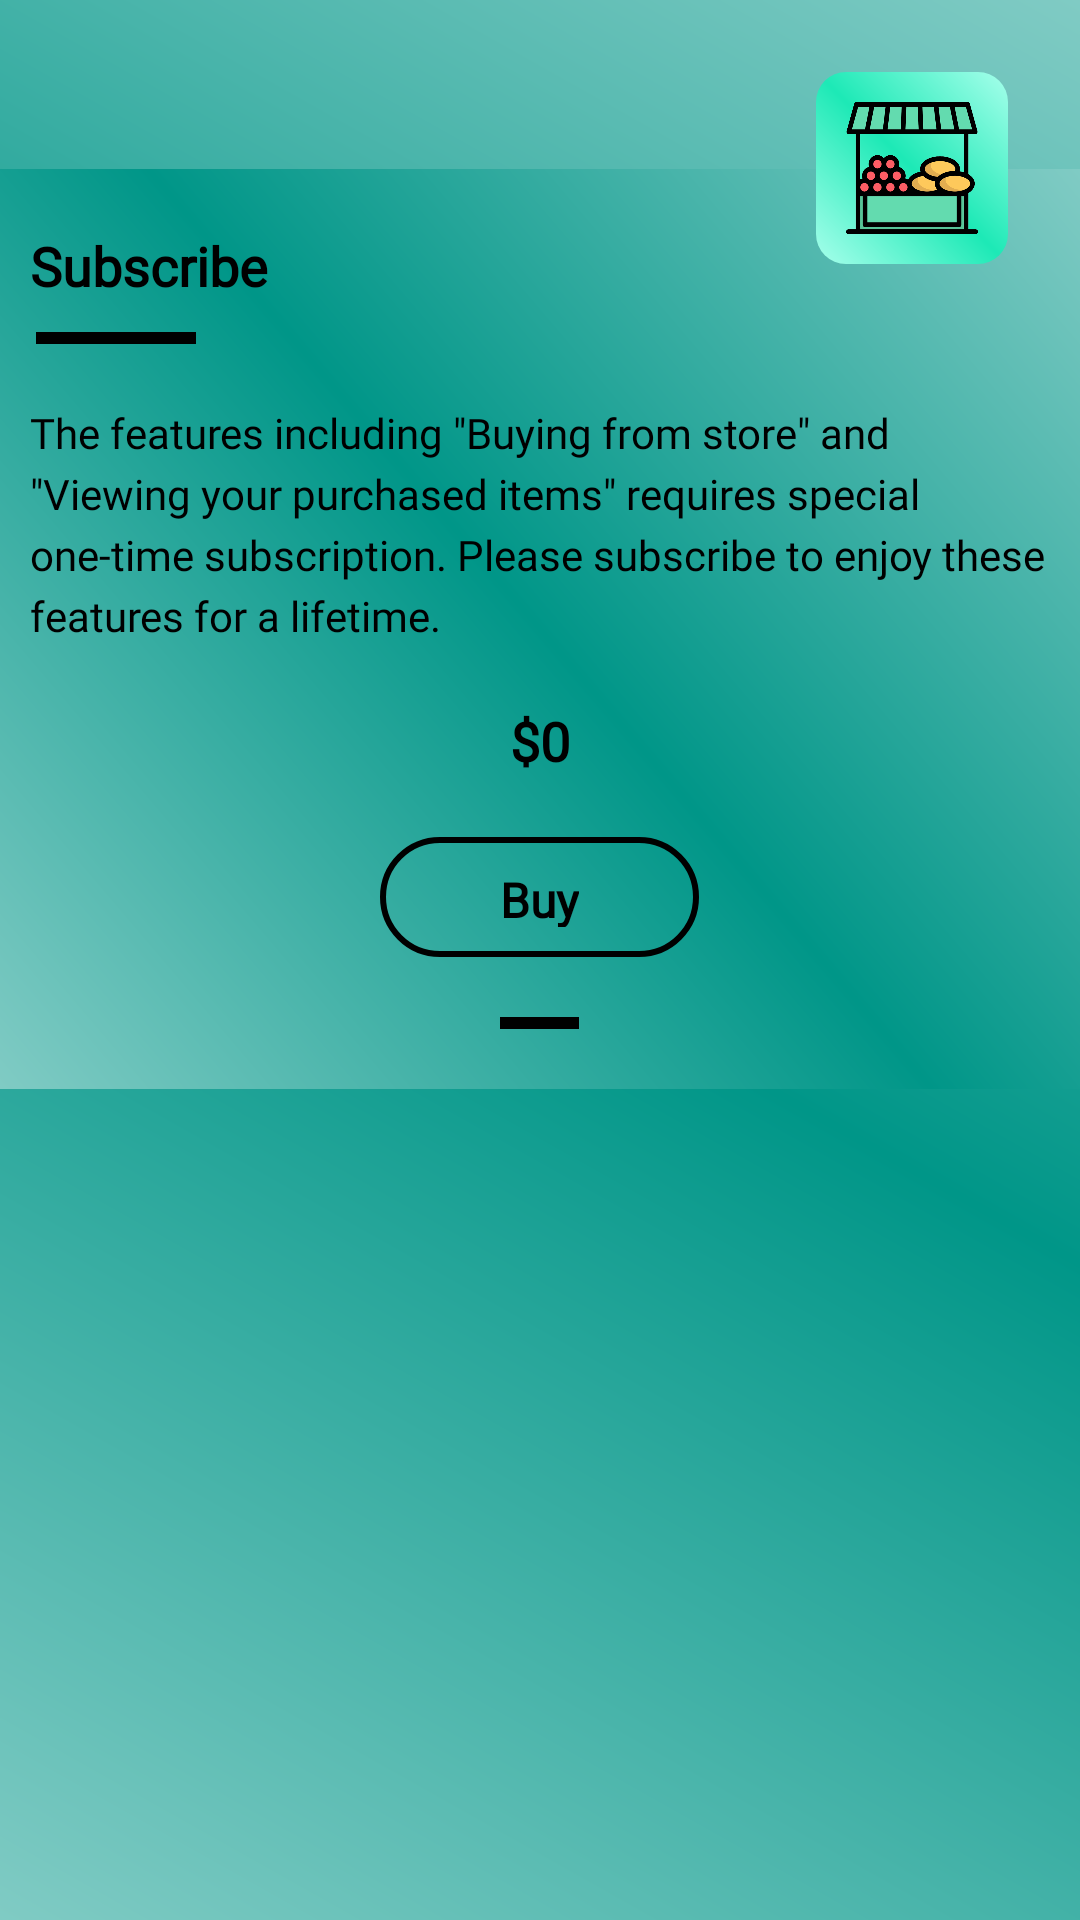

Named icons in this screenshot (1080w x 1920h) and their bounding boxes, bbox=(x1, y1, x2, y2):
Fruit Store Image: bbox=(816, 72, 1008, 264)
